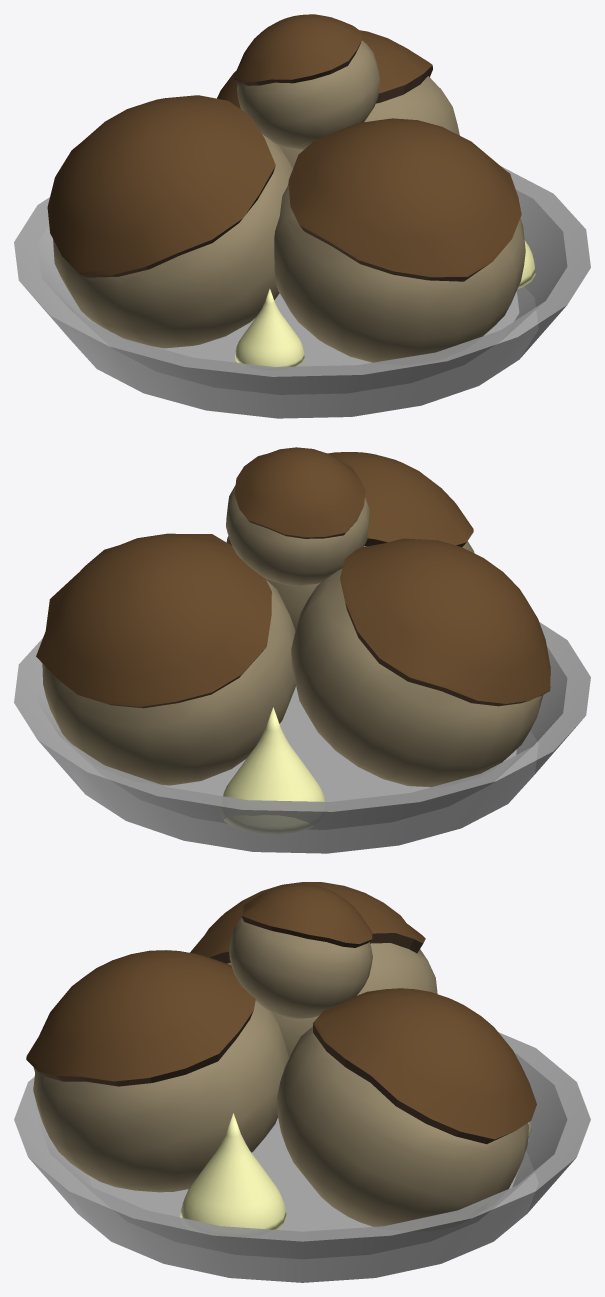
File: Profiteroles.fbx
3 renders of one model, top to bottom at view 1: azimuth 30°, elevation 25°; view 2: azimuth 150°, elevation 25°; view 3: azimuth 270°, elevation 25°, orthographic.
Visible parts, largest first — view 1: pasted__pasted__pSphere1, pasted__pasted__pasted__pSphere2, pCylinder1, pasted__pasted__pasted__pasted__pSphere1, pasted__pasted__pasted__pSphere1, pSphere2; view 2: pasted__pasted__pasted__pSphere1, pasted__pasted__pasted__pSphere2, pCylinder1, pasted__pasted__pasted__pasted__pSphere1, pasted__pasted__pSphere1, pasted__pSphere2; view 3: pasted__pasted__pasted__pSphere1, pasted__pasted__pSphere1, pCylinder1, pasted__pasted__pasted__pasted__pSphere1, pasted__pasted__pasted__pSphere2, pasted__pSphere3.
Boxes of the visible parts, x1,y1,x2,y2 form: pasted__pasted__pSphere1: (274,118,525,362); pasted__pasted__pasted__pSphere2: (47,95,292,348); pCylinder1: (14,166,590,418); pasted__pasted__pasted__pasted__pSphere1: (233,14,379,149); pasted__pasted__pasted__pSphere1: (217,30,459,168); pSphere2: (235,289,304,366); pasted__pasted__pasted__pSphere1: (36,533,295,785); pasted__pasted__pasted__pSphere2: (291,538,550,787); pCylinder1: (14,622,590,853); pasted__pasted__pasted__pasted__pSphere1: (226,447,369,585); pasted__pasted__pSphere1: (226,452,474,631); pasted__pSphere2: (223,707,325,834); pasted__pasted__pasted__pSphere1: (277,988,536,1226); pasted__pasted__pSphere1: (26,950,288,1192); pCylinder1: (14,1032,590,1282); pasted__pasted__pasted__pasted__pSphere1: (229,884,372,1018); pasted__pasted__pasted__pSphere2: (190,882,437,1057); pasted__pSphere3: (180,1113,286,1229).
Size of the model in its own units: 3.26 by 1.84 by 3.26.
